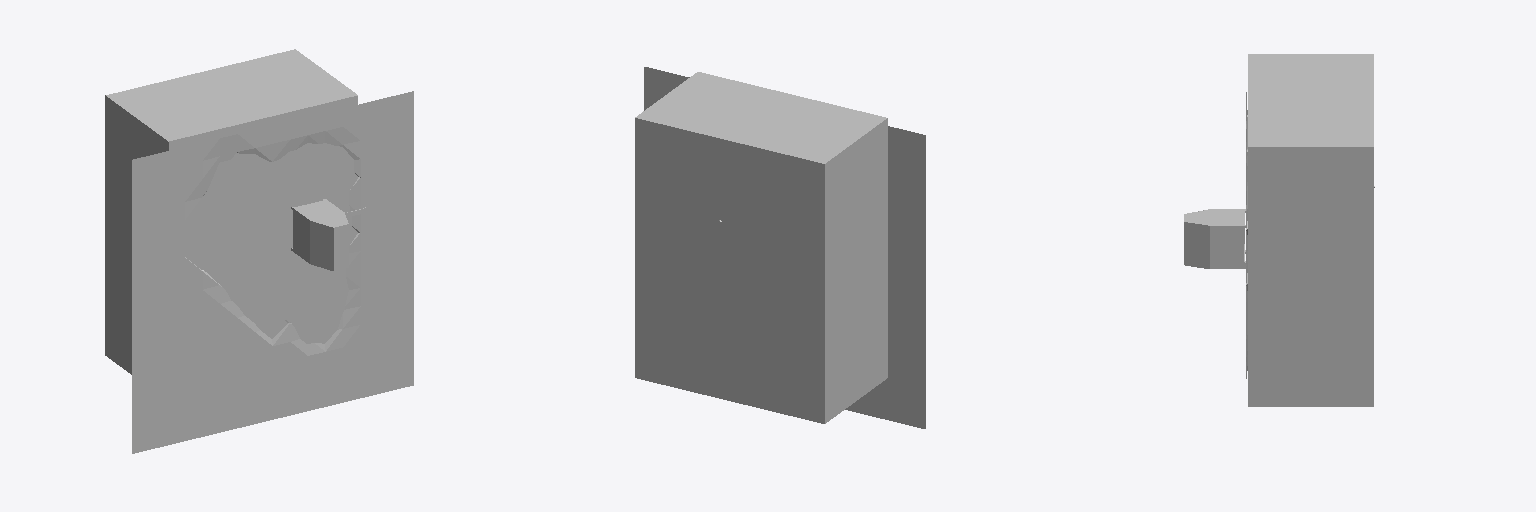
File: riverhouse_v1.obj
The picture shows the model from 3 angles: view 1: azimuth 30°, elevation 25°; view 2: azimuth 150°, elevation 25°; view 3: azimuth 270°, elevation 25°; orthographic projection.
Parts seen in each view (by area): view 1: ground, water, house; view 2: water, ground; view 3: water, house, ground.
Part boxes in pixels (left/top/right/bottom): ground: left=132, top=91, right=413, bottom=453; water: left=105, top=49, right=357, bottom=374; house: left=291, top=199, right=368, bottom=270; water: left=635, top=72, right=887, bottom=423; ground: left=644, top=67, right=925, bottom=428; water: left=1248, top=54, right=1373, bottom=406; house: left=1184, top=209, right=1245, bottom=268; ground: left=1246, top=92, right=1374, bottom=378.
Size of the model in its own units: 71 by 73.08 by 42.15.